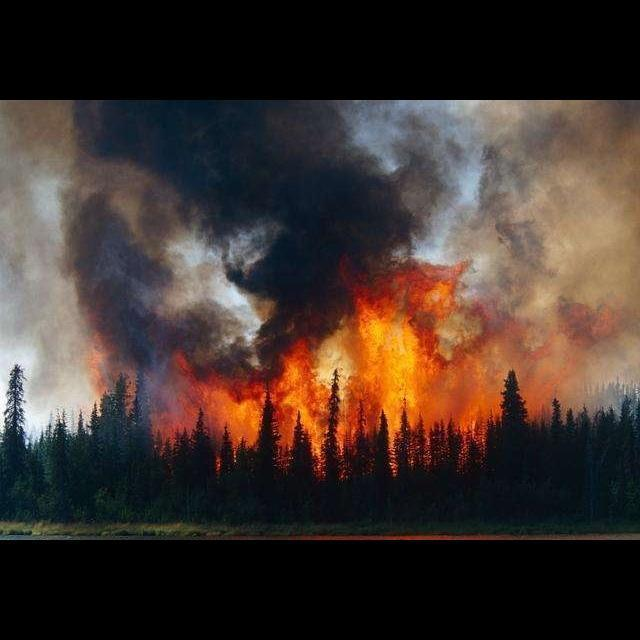Fire: (151, 251, 561, 481)
Smoke: (1, 101, 640, 252), (0, 253, 147, 421), (560, 255, 640, 418)
